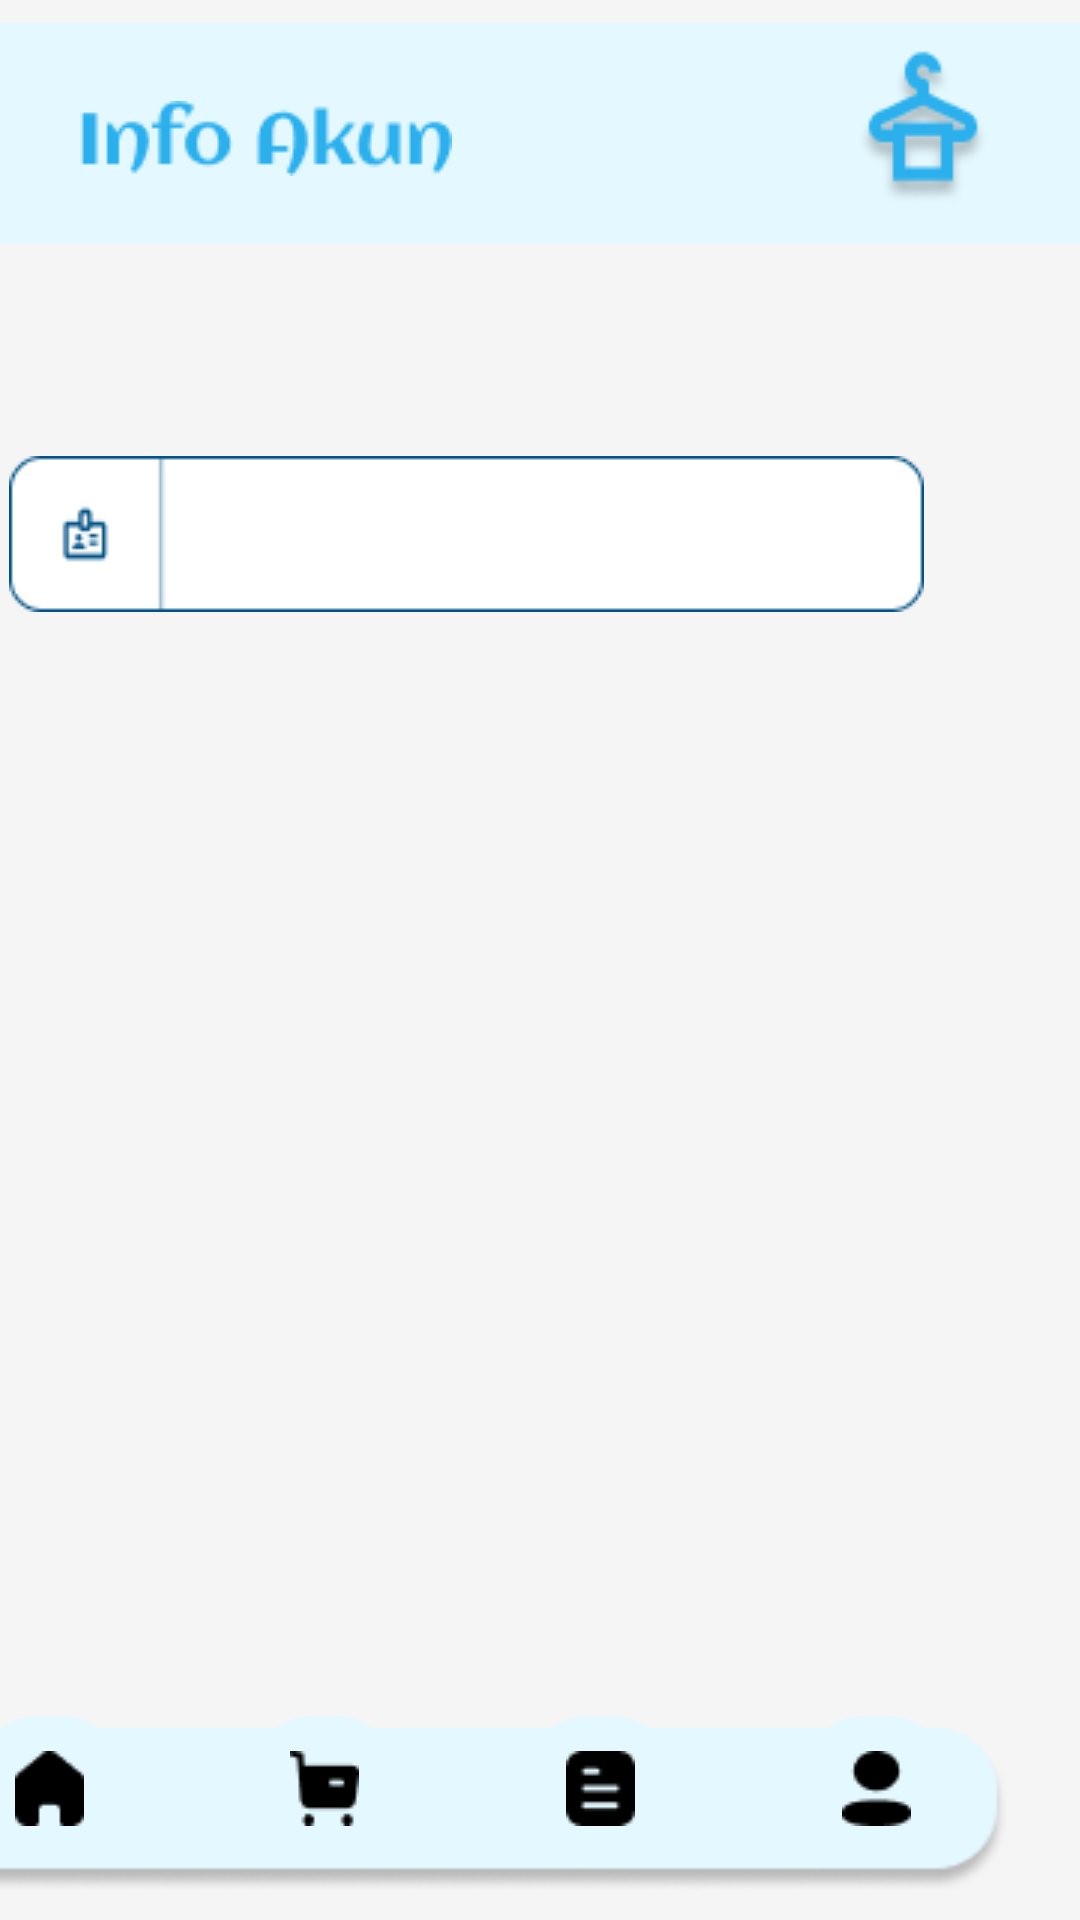

Icons on this 1080 x 1920 Android screen, each with its box as (x1,y1,x2,y2):
buy: (290,1751,359,1826)
document: (566,1751,635,1826)
profile: (842,1751,911,1826)
